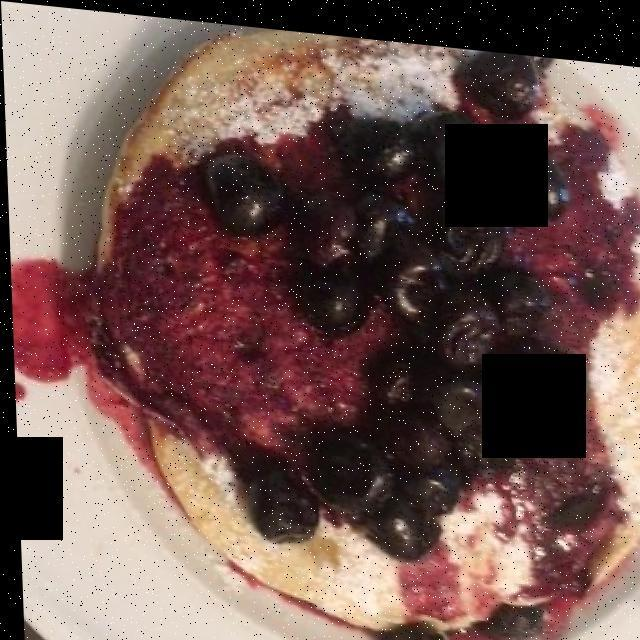blueberries: (22, 64, 601, 640)
pancakes: (99, 48, 625, 611)
